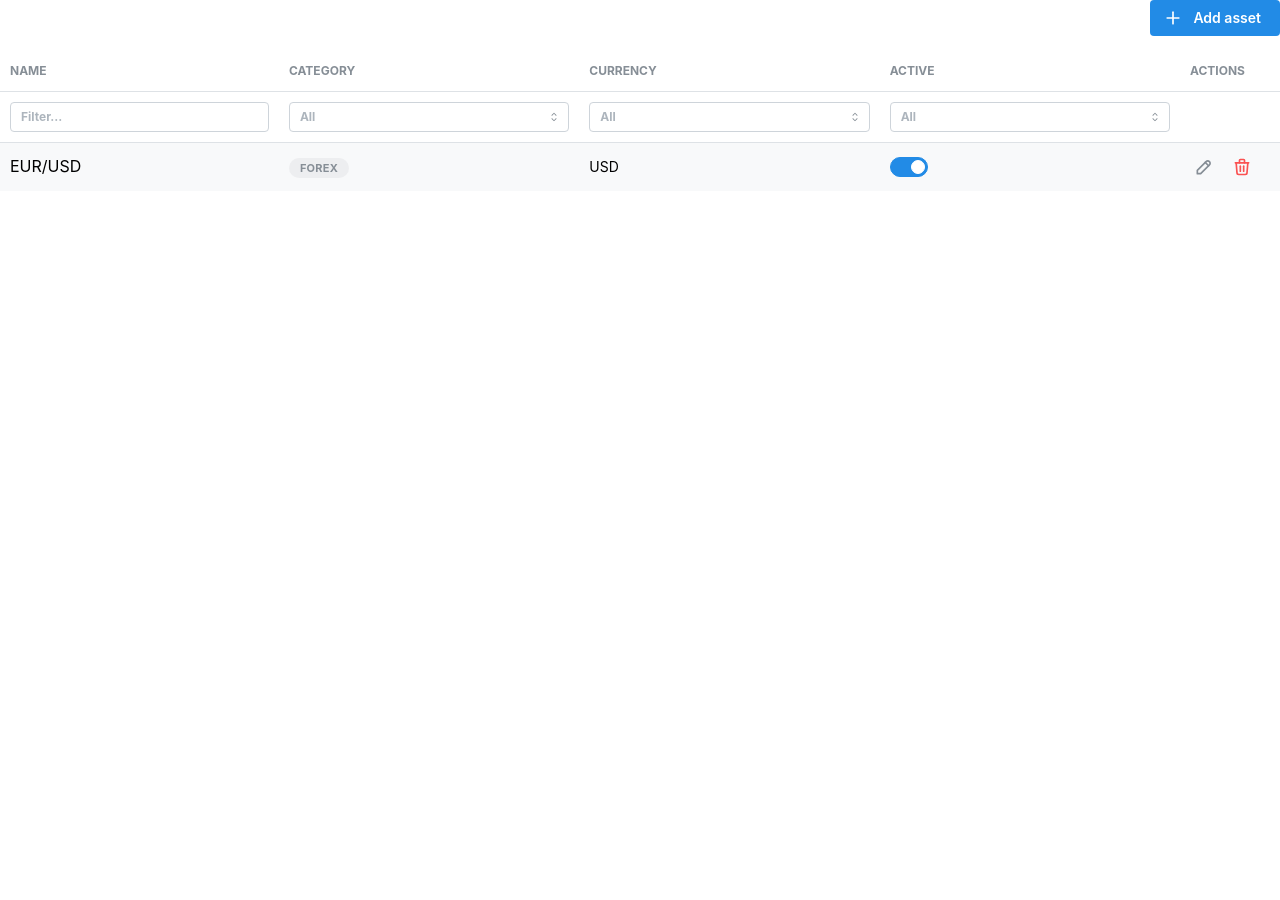
it: AssetsTab › AssetModal — Massive ticker field › prefills the ticker input when editing an asset that has a massive_ticker
Expected: the text "EUR/USD" is shown, [10,156,81,176]
Click the button named "Edit EUR/USD".
click(1204, 167)  # box [1190,153,1218,181]
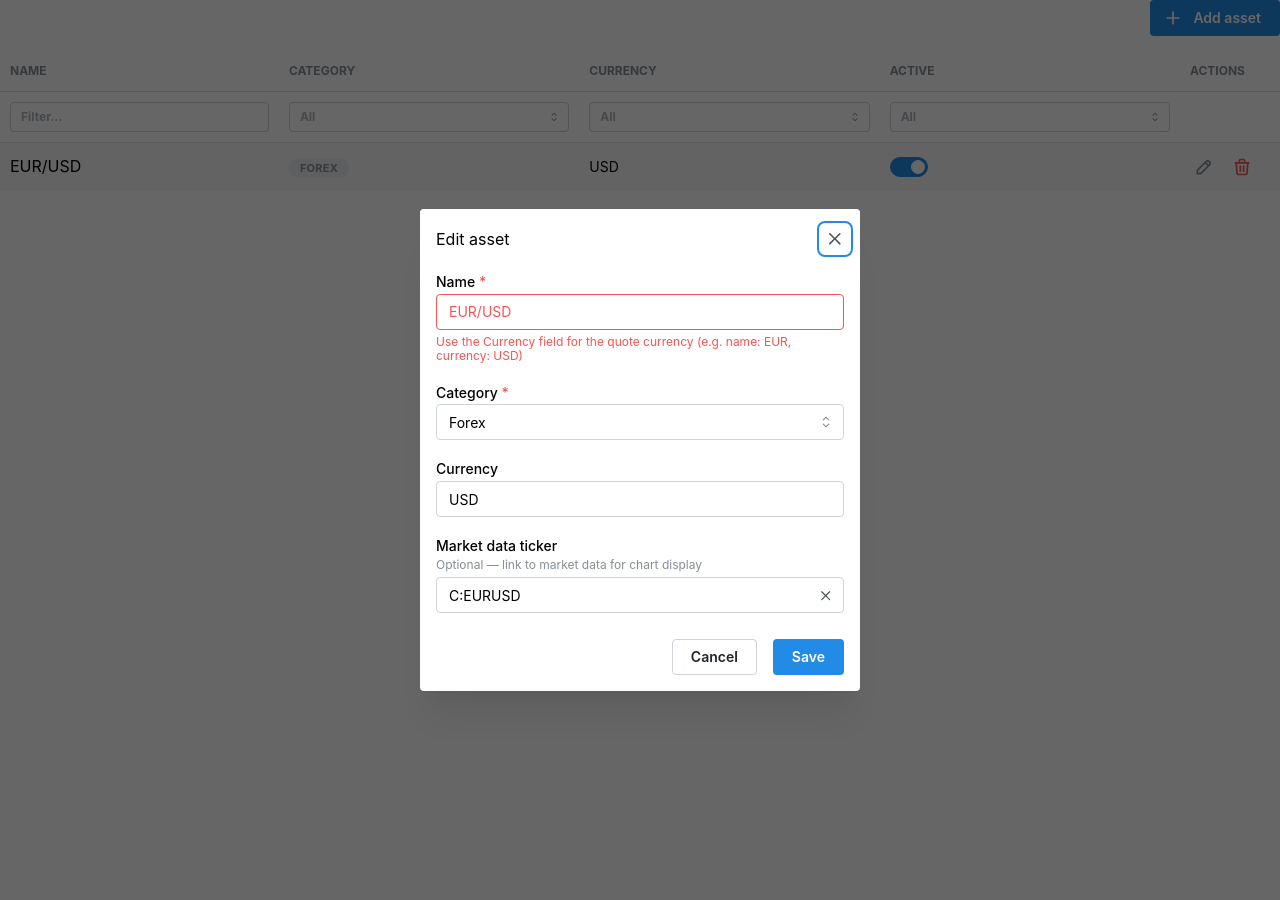
Expected: the field labelled "Market data ticker" holds "C:EURUSD", [436,577,844,613]
